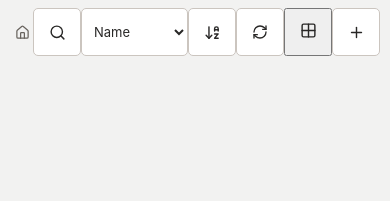
Scenario: responsive actions › does not hijack menu navigation keys when focus is outside the menu
The width and height of the screenshot is (390, 201).
Click the button named "Administrator menu" at coordinates (356, 32), box [332,8,380,56]
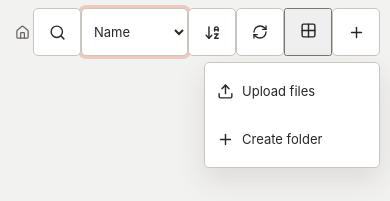
Expected: the menu named "Administrator menu" is shown, [204,62,380,168]
